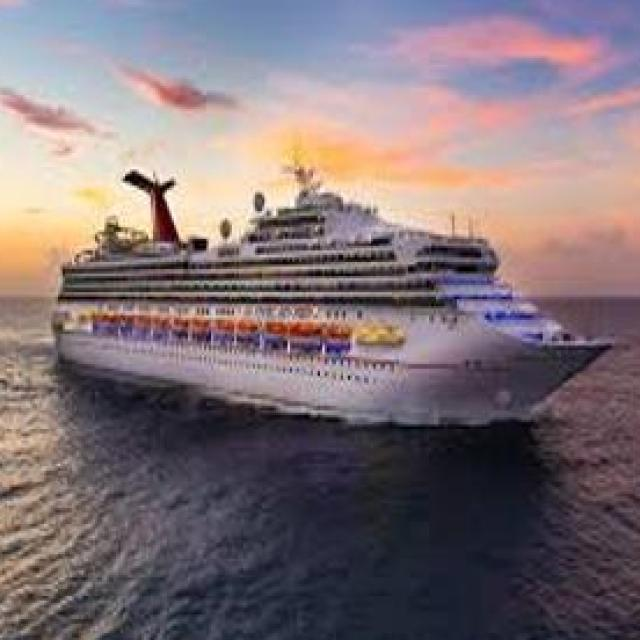passenger ship: (38, 150, 602, 430)
